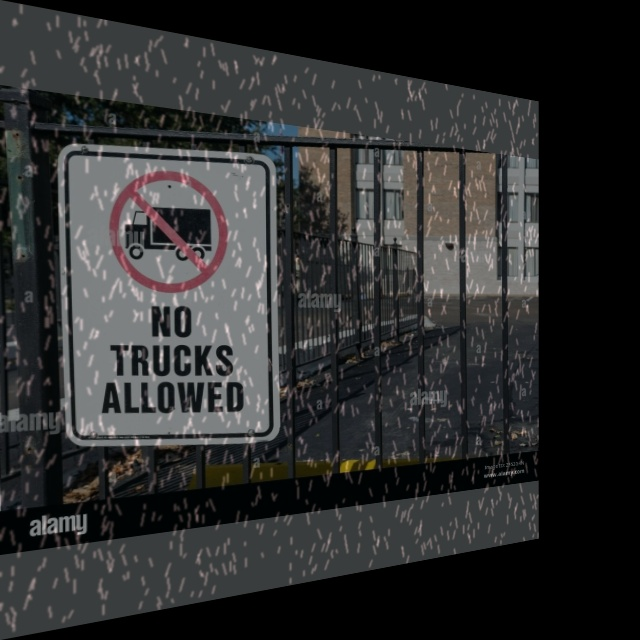Truck_Prohibited: (100, 154, 233, 303)
